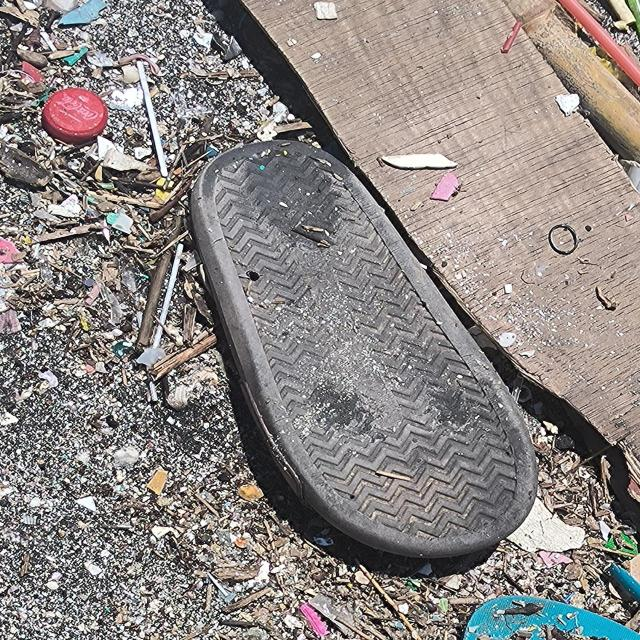plastic_waste: (138, 60, 170, 179), (43, 89, 108, 146)
rubber_waste: (189, 140, 543, 560)
